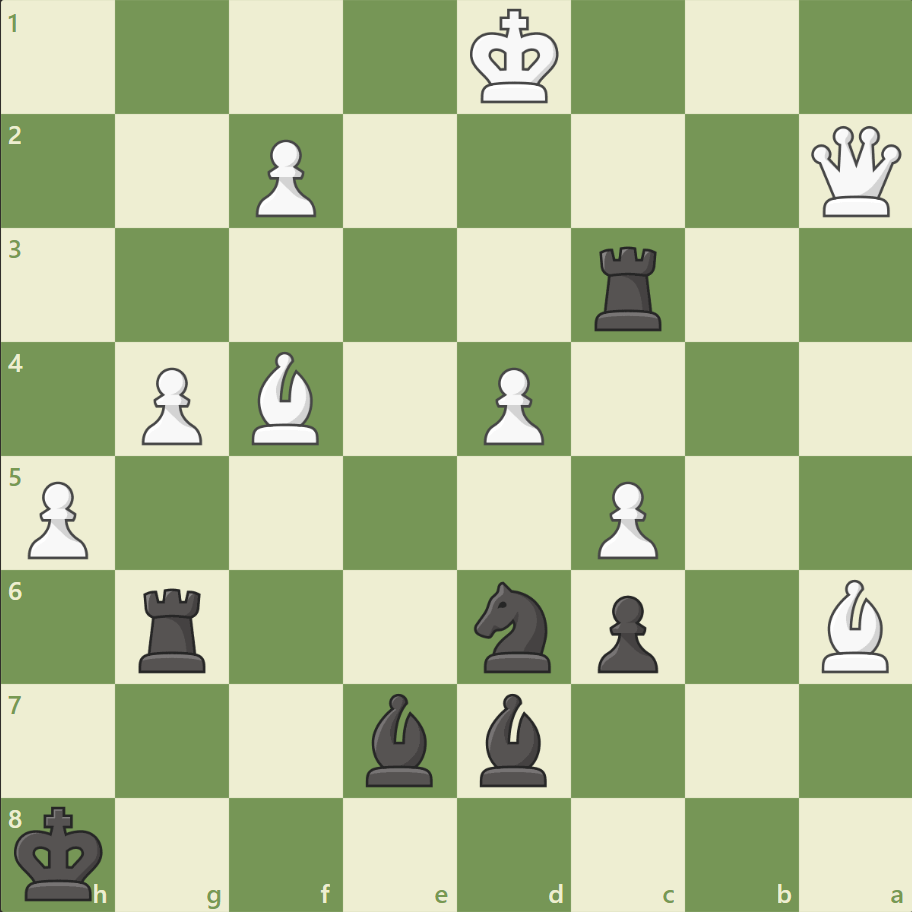B: (812, 574, 896, 676), (244, 347, 328, 449)
K: (465, 4, 565, 112)
P: (20, 473, 95, 564), (474, 359, 549, 450), (133, 359, 208, 450), (247, 132, 322, 223), (588, 473, 662, 564)
Q: (805, 122, 904, 222)
b: (471, 687, 555, 790), (358, 687, 442, 790)
k: (11, 798, 111, 906)
n: (465, 575, 562, 677)
p: (588, 586, 662, 677)
r: (587, 239, 670, 336), (133, 579, 215, 676)
